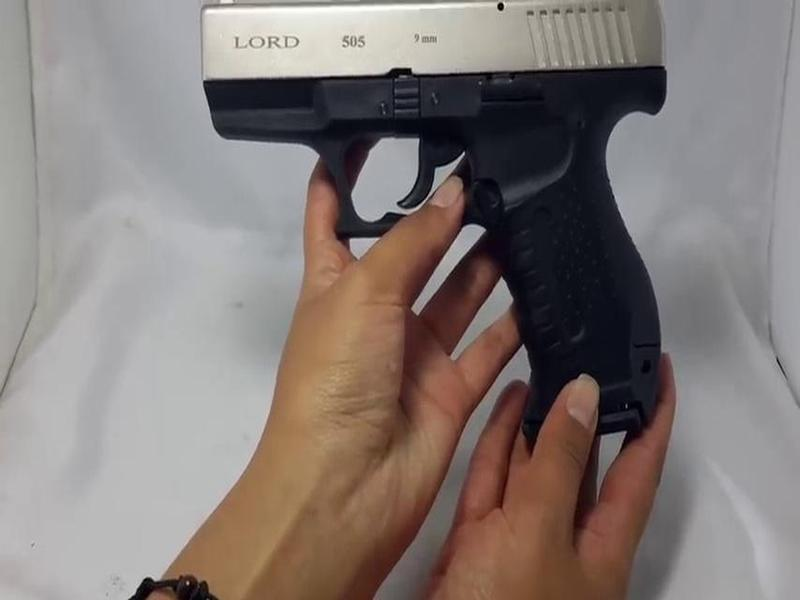Pistola: (190, 1, 676, 440)
